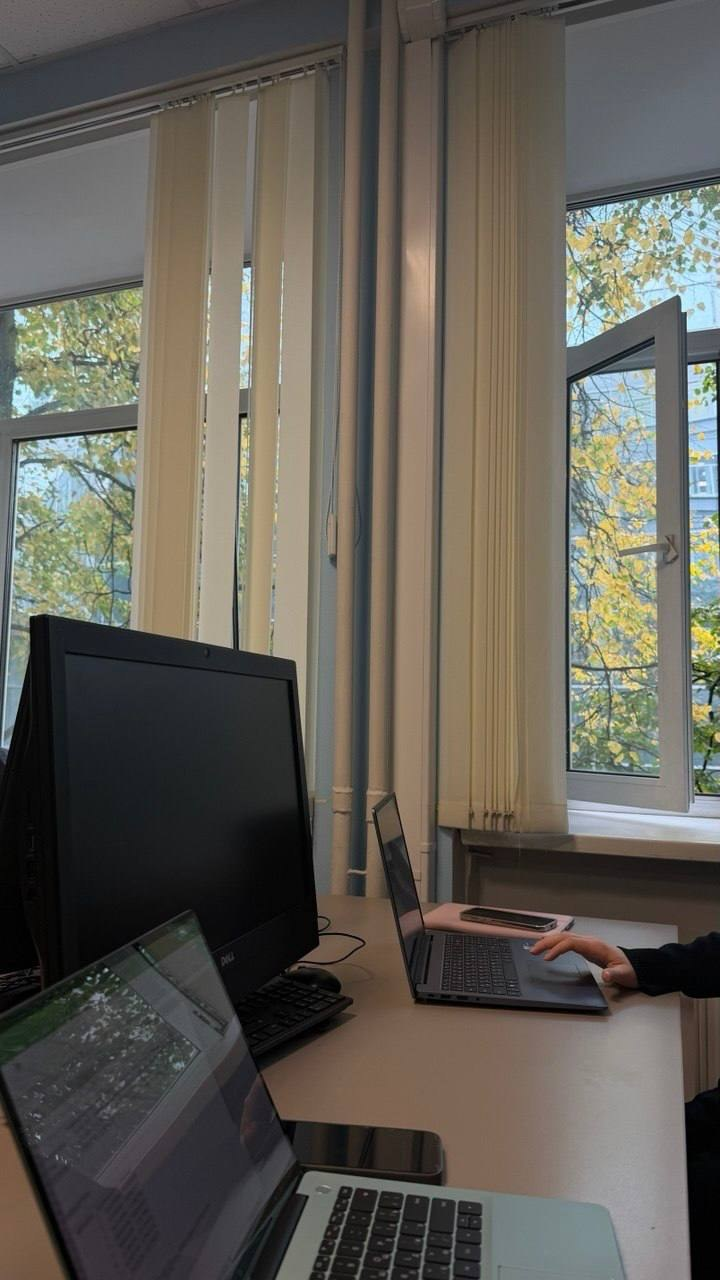cell phone: (281, 1119, 446, 1185), (460, 907, 557, 932)
laptop: (1, 908, 627, 1278), (2, 612, 354, 1063), (371, 792, 610, 1015)
